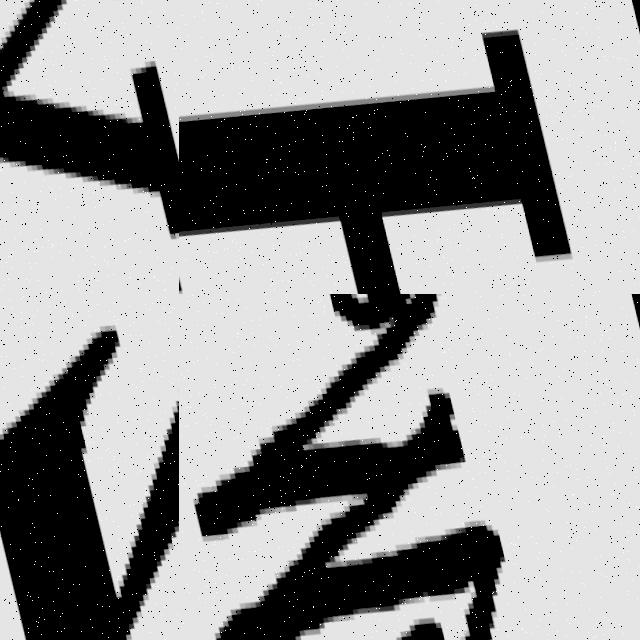2: (0, 294, 179, 640)
H: (179, 25, 561, 294)
W: (179, 294, 508, 640)
X: (0, 0, 179, 294)
